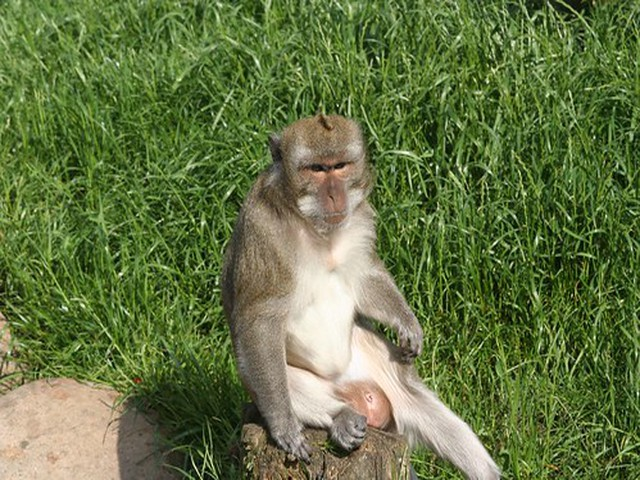Monkey: (215, 109, 505, 479)
